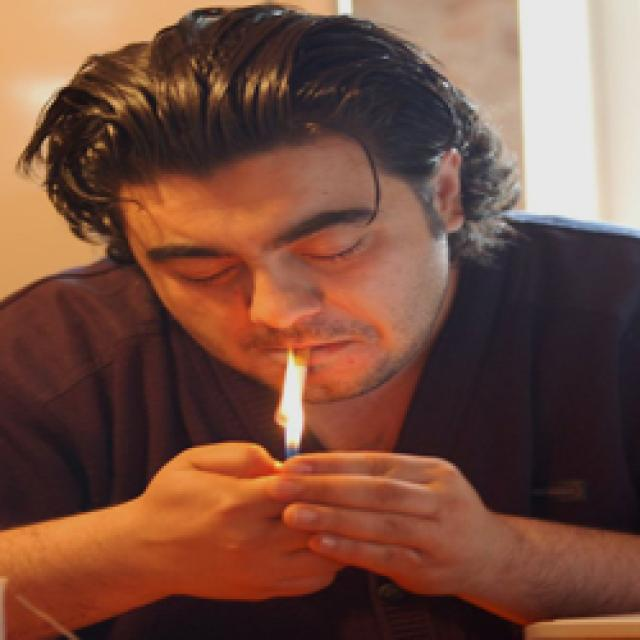Smooking: (279, 336, 316, 477)
